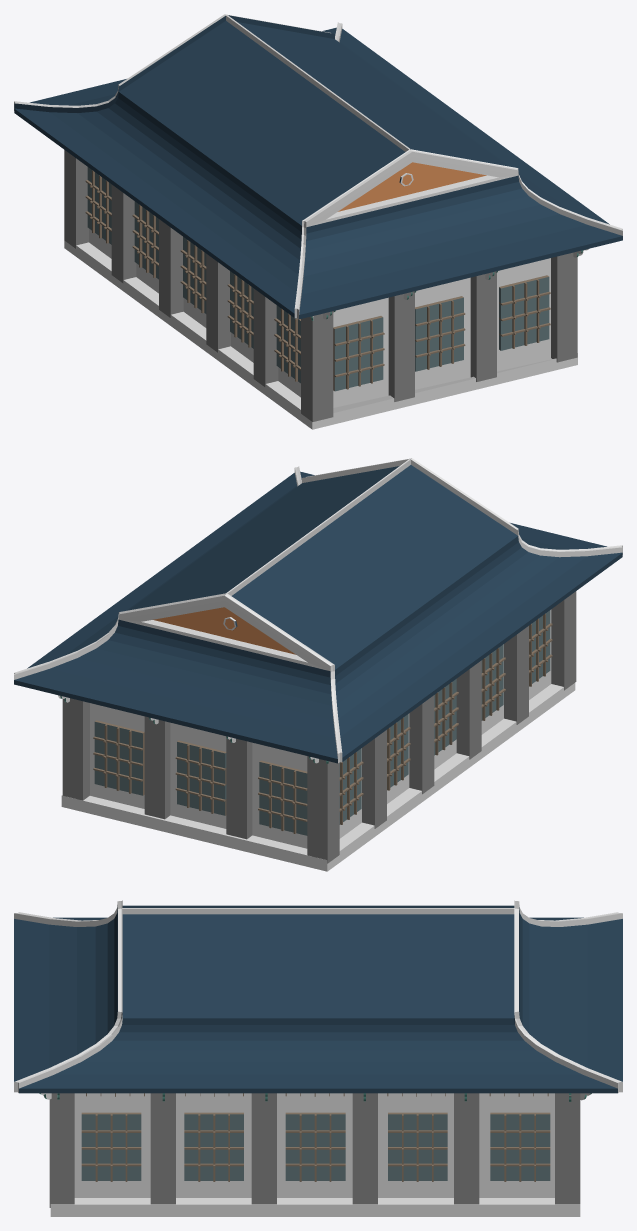
Rendered from chengwadae2.fbx.
3 views of the same model, one above another, from view 1: azimuth 30°, elevation 25°; view 2: azimuth 150°, elevation 25°; view 3: azimuth 270°, elevation 25° (orthographic). The views are drawn at different scales.
Parts seen in each view (by area): view 1: Cube.001; view 2: Cube.001; view 3: Cube.001.
Part boxes in pixels (left/top/right/bottom): Cube.001: left=14, top=14, right=622, bottom=429; Cube.001: left=14, top=458, right=622, bottom=871; Cube.001: left=14, top=900, right=622, bottom=1216.
Size of the model in its own units: 1201 by 781 by 1807.
